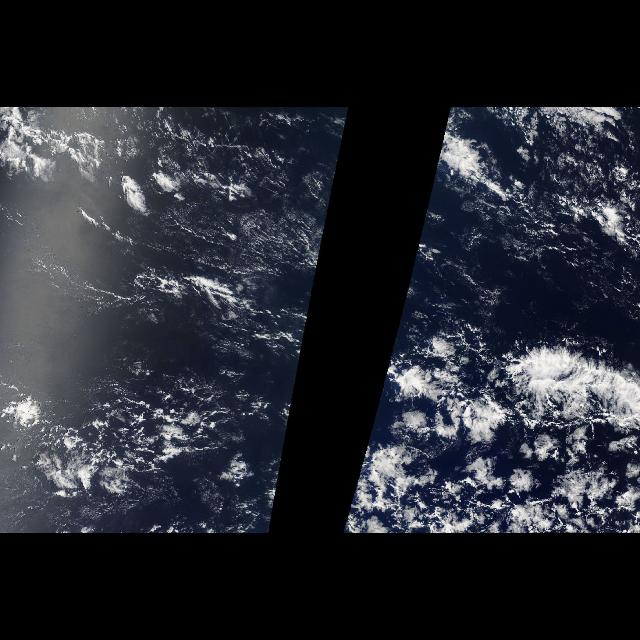Fish: (394, 329, 640, 473)
Flower: (416, 323, 640, 489)
Gravel: (26, 154, 340, 338)
Sugar: (142, 145, 318, 271)
